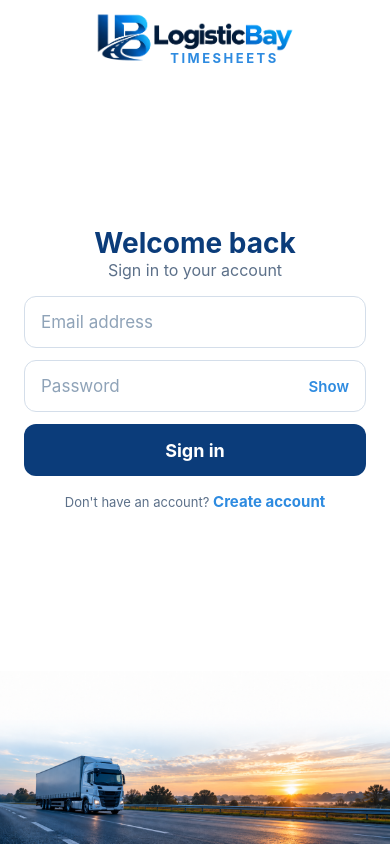
Test: an empty form is reported per field and never reaches the network
The width and height of the screenshot is (390, 844).
Click the button with test id "sign-in" at (195, 450), box [24,424,366,476]
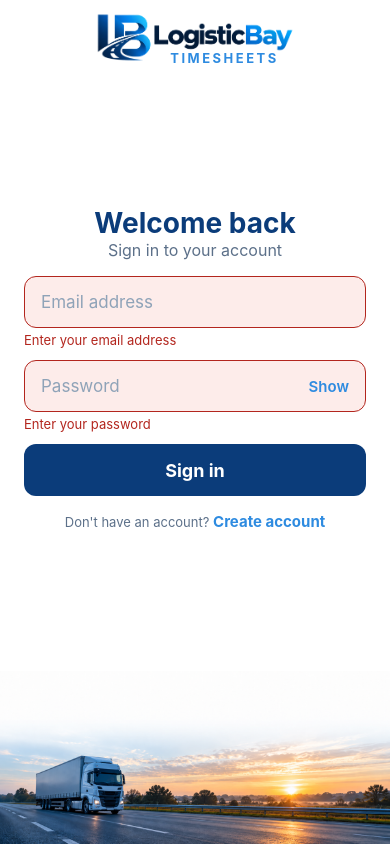
expect the text "Enter your email address" is shown: met, box [24,332,176,348]
expect the text "Enter your password" is shown: met, box [24,416,151,432]
